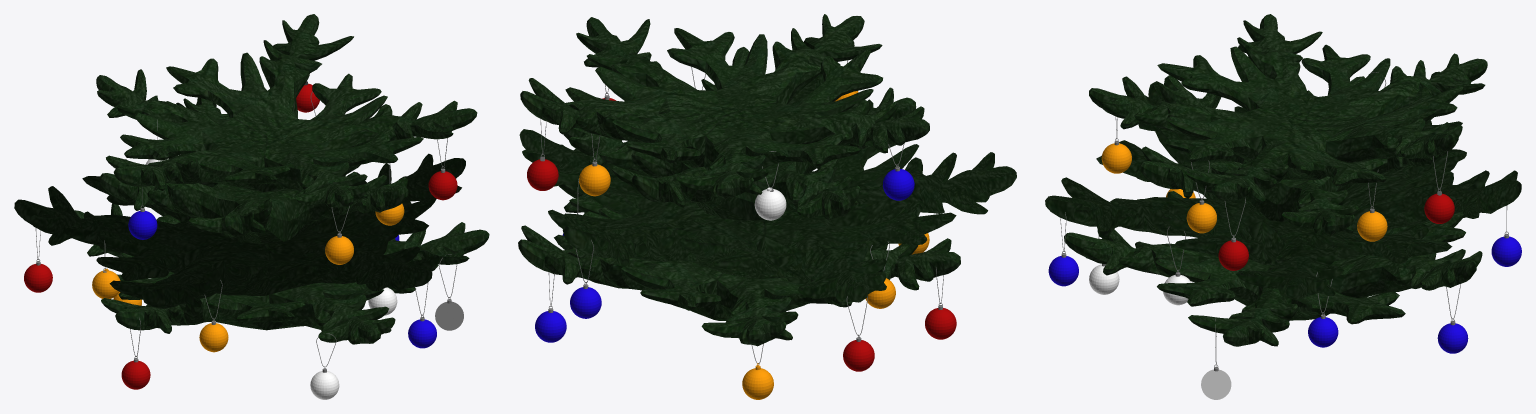
The model's file is Arbol_navidaDos.obj.
3 views of the same model, side by side, from view 1: azimuth 30°, elevation 25°; view 2: azimuth 150°, elevation 25°; view 3: azimuth 270°, elevation 25° (orthographic). The views are drawn at different scales.
Visible parts, largest first — view 1: Christmas_Tree07, Christmas_Tree05, Christmas_Tree06, Christmas_Tree12, ball22, ball96, ball44, ball64, ball28, ball52, ball72, ball98 (+5 smaller); view 2: Christmas_Tree07, Christmas_Tree05, Christmas_Tree06, Christmas_Tree12, ball98, ball20, ball46, ball50, ball72, ball44, ball94, ball92 (+2 smaller); view 3: Christmas_Tree07, Christmas_Tree05, Christmas_Tree06, Christmas_Tree12, ball22, ball50, ball20, ball54, ball30, ball64, ball92, ball18 (+3 smaller).
Boxes of the visible parts, x1,y1,x2,y2 form: Christmas_Tree07: (96, 14, 477, 207); Christmas_Tree05: (14, 102, 465, 308); Christmas_Tree06: (74, 203, 489, 344); Christmas_Tree12: (99, 97, 408, 244); ball22: (428, 171, 457, 200); ball96: (199, 323, 228, 352); ball44: (128, 210, 157, 239); ball64: (408, 319, 436, 348); ball28: (310, 371, 339, 399); ball52: (435, 301, 463, 330); ball72: (121, 360, 150, 389); ball98: (24, 264, 52, 292); Christmas_Tree07: (520, 14, 929, 199); Christmas_Tree05: (519, 74, 1016, 302); Christmas_Tree06: (518, 159, 960, 346); Christmas_Tree12: (563, 47, 916, 220); ball98: (843, 340, 874, 371); ball20: (579, 164, 610, 196); ball46: (754, 187, 786, 220); ball50: (535, 311, 566, 342); ball72: (925, 308, 956, 339); ball44: (882, 169, 914, 200); ball94: (527, 159, 558, 190); ball92: (570, 287, 601, 318); Christmas_Tree07: (1089, 14, 1487, 202); Christmas_Tree05: (1045, 81, 1521, 300); Christmas_Tree06: (1064, 180, 1485, 346); Christmas_Tree12: (1140, 75, 1458, 236); ball22: (1218, 240, 1248, 270); ball50: (1437, 323, 1468, 353); ball20: (1357, 211, 1387, 241); ball54: (1308, 317, 1338, 347); ball30: (1101, 143, 1131, 173); ball64: (1048, 256, 1078, 286); ball92: (1491, 236, 1521, 266); ball18: (1186, 203, 1216, 233).
Size of the model in its own units: 18.95 by 11.22 by 19.1.
Materials: 7 (5 with a texture image).
